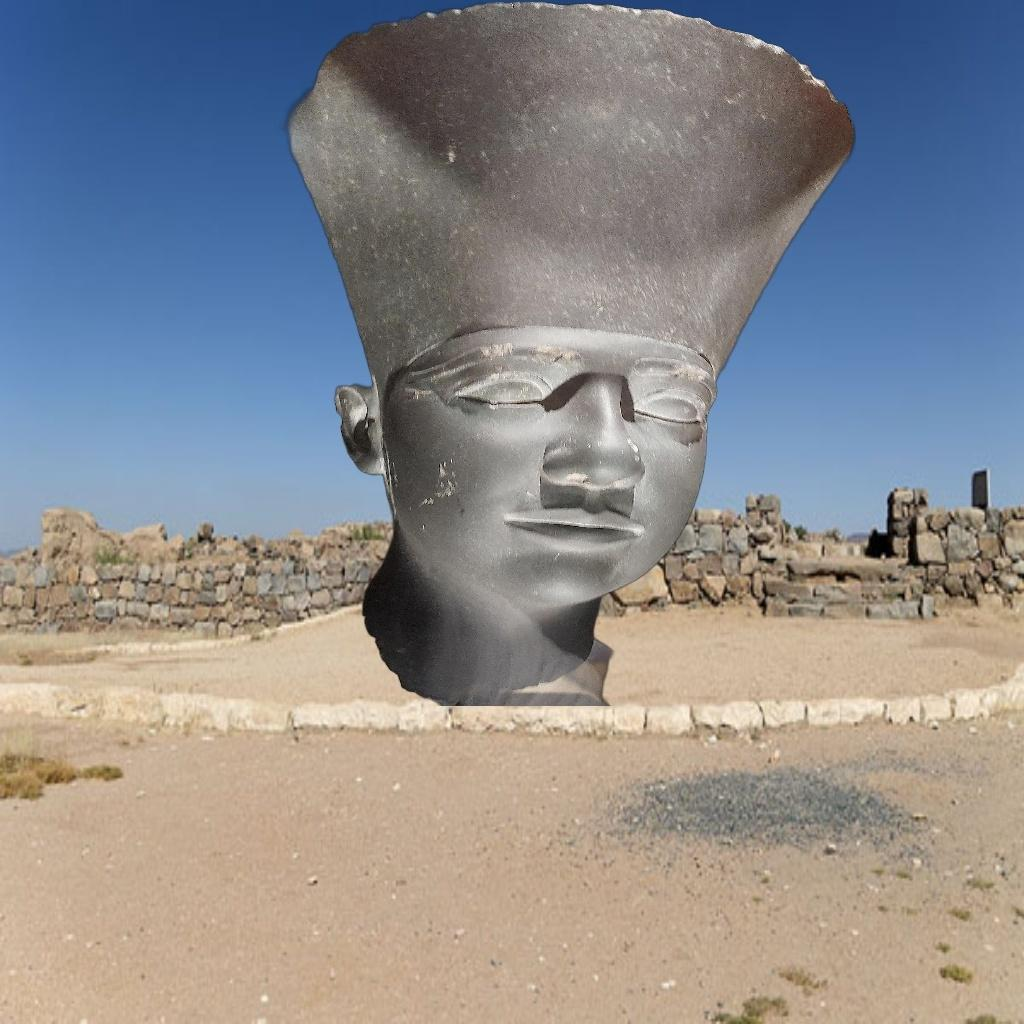Head of Userkaf: (280, 3, 856, 706)
